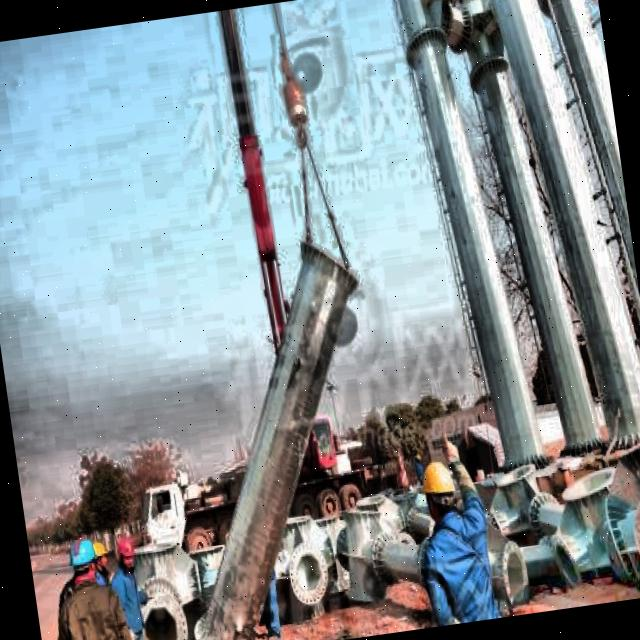helmet: (416, 456, 462, 524), (68, 536, 99, 581), (113, 528, 141, 574), (91, 540, 111, 572)
